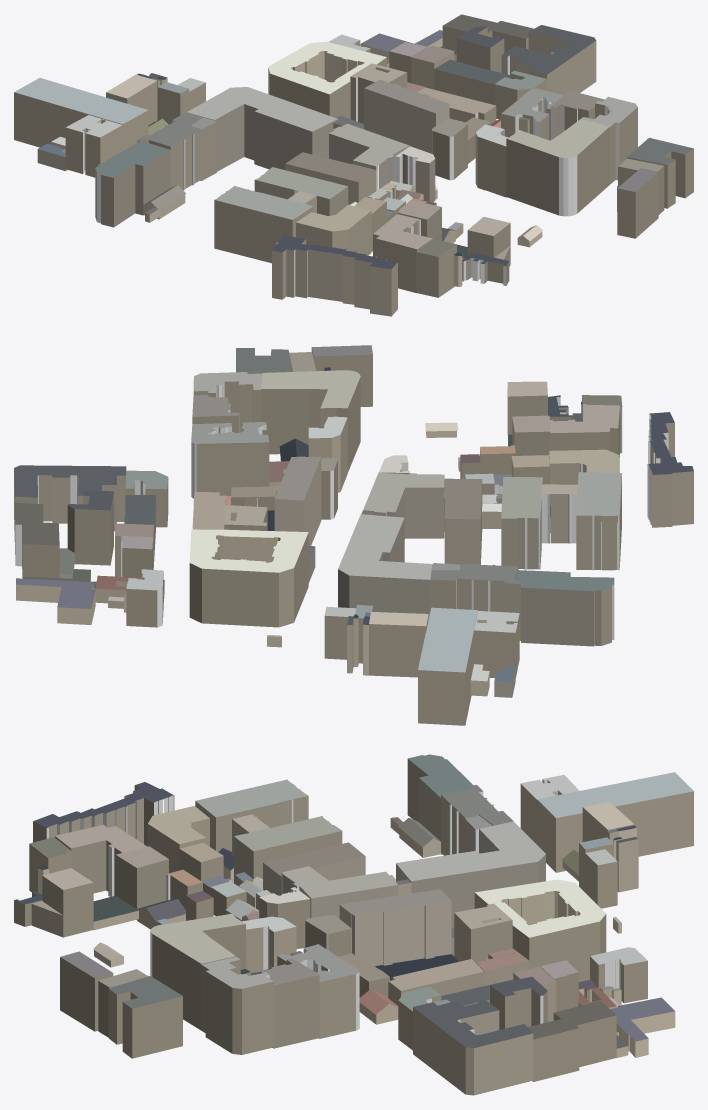
The picture shows the model from 3 angles, top to bottom: view 1: azimuth 30°, elevation 25°; view 2: azimuth 150°, elevation 25°; view 3: azimuth 270°, elevation 25°; orthographic projection. The views are drawn at different scales.
Visible parts, largest first — view 1: tuile; view 2: tuile; view 3: tuile.
Part boxes in pixels (x1,y1,x2,y2): tuile: (14, 14, 693, 316); tuile: (14, 345, 693, 725); tuile: (14, 754, 693, 1095).
Size of the model in its own units: 285 by 36.9 by 284.
